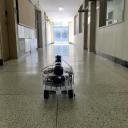cart: (42, 66, 75, 99)
